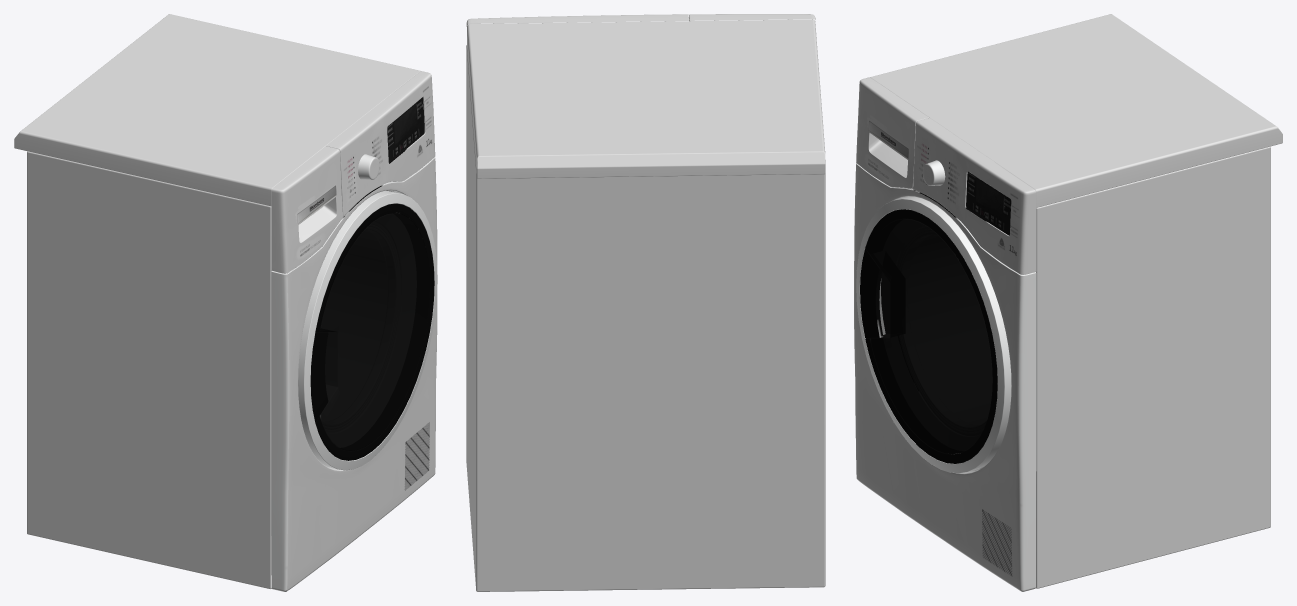
Rendered from blenderco_cn.glb.
The picture shows the model from 3 angles, left to right: view 1: azimuth 30°, elevation 25°; view 2: azimuth 150°, elevation 25°; view 3: azimuth 270°, elevation 25°; orthographic projection. The views are drawn at different scales.
Visible parts, largest first — view 1: electronic_141; view 2: electronic_141; view 3: electronic_141.
Part boxes in pixels (bbox=[...]): electronic_141: bbox=[14, 14, 437, 591]; electronic_141: bbox=[466, 14, 825, 591]; electronic_141: bbox=[854, 14, 1282, 591].
Size of the model in its own units: 0.8251 by 0.8455 by 0.8221.
1 material, 1 textured.
